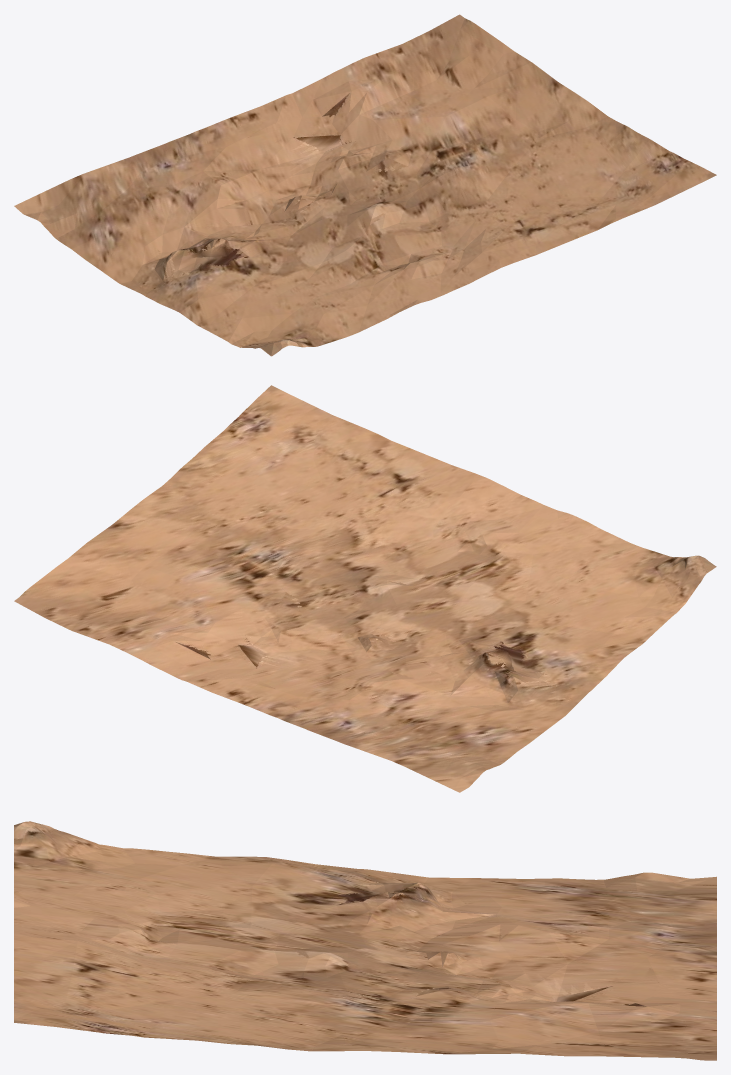
3 views of the same model, one above another, from view 1: azimuth 30°, elevation 25°; view 2: azimuth 150°, elevation 25°; view 3: azimuth 270°, elevation 25° (orthographic). The views are drawn at different scales.
Bounding box in the file's own units: 1.04 × 0.2527 × 1.04.
2 materials, 2 textured.
